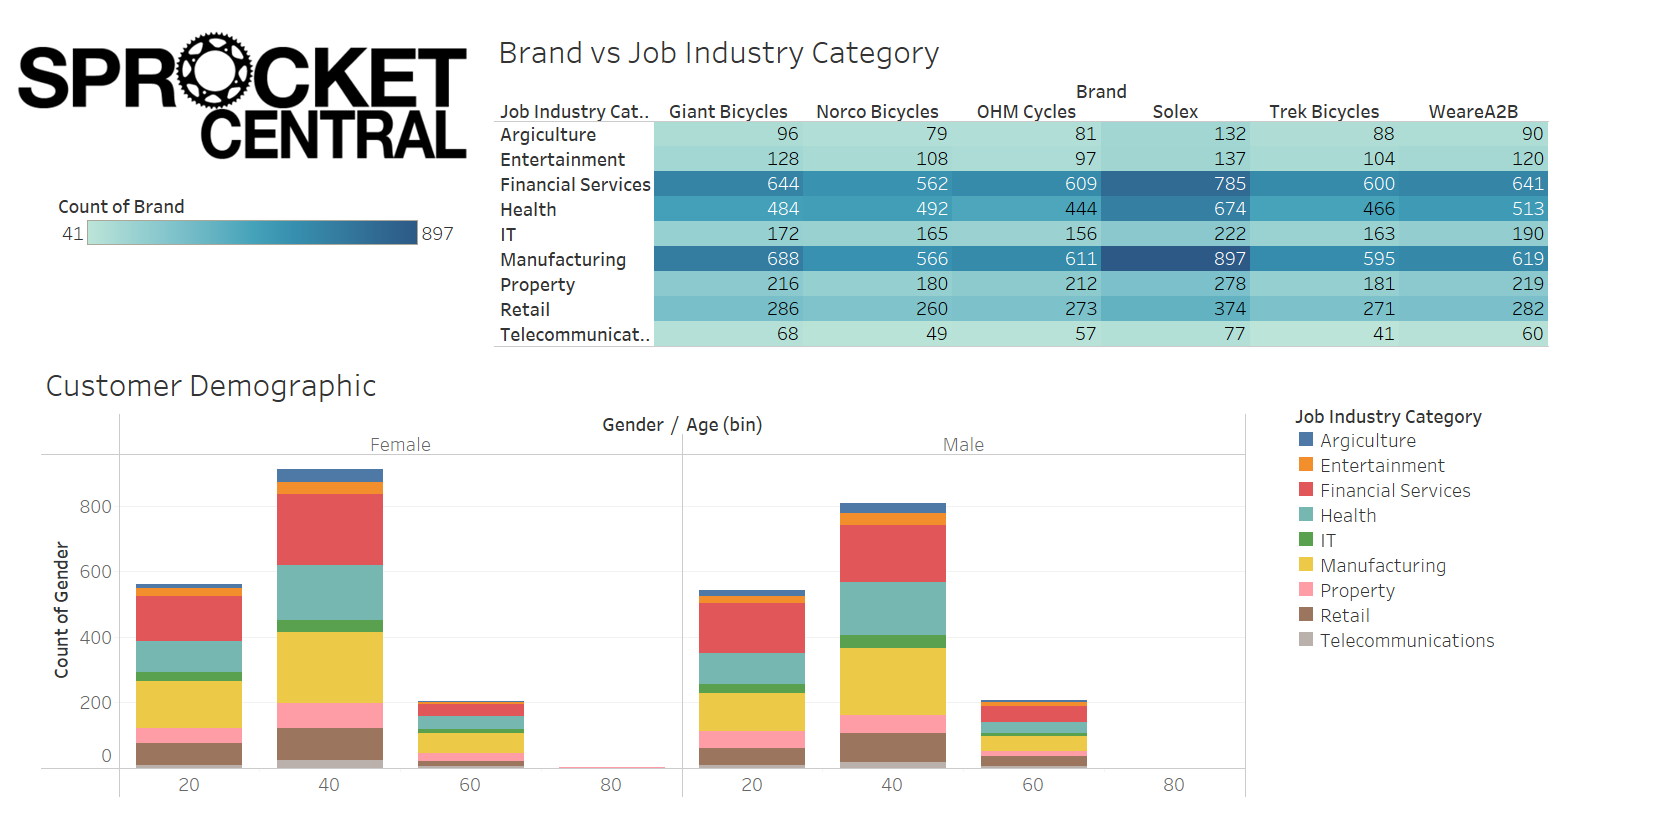

What the dashboard file says about the page in this screenshot:
{"tool":"tableau","page":{"name":"Dashboard 1","canvas":[1000,1000],"units":"permille","ordinal":0},"visuals":[{"type":"image","param":"D:/College/Internship/Projects/KPMG/Capture.PNG","box":[6,13.5,292.1,211.5]},{"type":"worksheet","title":"Sheet 1","mark":"Square","rows":["job_industry_category"],"cols":["brand"],"box":[296.9,29.3,638.2,402.2]},{"type":"legend","title":"Sheet 1","param":"[federated.12vq8vn1b4vt7y10dxqfv1u105mu].[cnt:brand:qk]","box":[34.9,231.1,241,101.5]},{"type":"worksheet","title":"Sheet 2","mark":"Automatic","rows":["gender"],"cols":["gender","Age (bin)"],"box":[24.6,436.4,724.2,539.1]},{"type":"legend","title":"Sheet 2","param":"[federated.12vq8vn1b4vt7y10dxqfv1u105mu].[none:job_industry_category:nk]","box":[777.6,490.2,198.3,453.6]}]}

Visuals, with their boxes on the dashboard's canvas, which has no fixed pixel size, in thousandths of its width and height (x1, y1, x2, y2). These are canvas units, not pixel positions in the 1664x818 screenshot, which may show the page scaled, cropped or inside an application window:
image: left=6, top=14, right=298, bottom=225
"Sheet 1" worksheet (Square marks): left=297, top=29, right=935, bottom=432
"Sheet 1" legend: left=35, top=231, right=276, bottom=333
"Sheet 2" worksheet: left=25, top=436, right=749, bottom=976
"Sheet 2" legend: left=778, top=490, right=976, bottom=944
